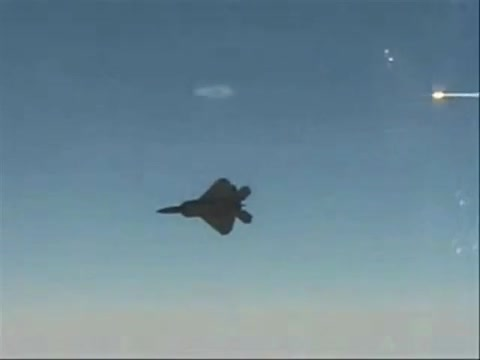aeroplane: (156, 180, 254, 237)
